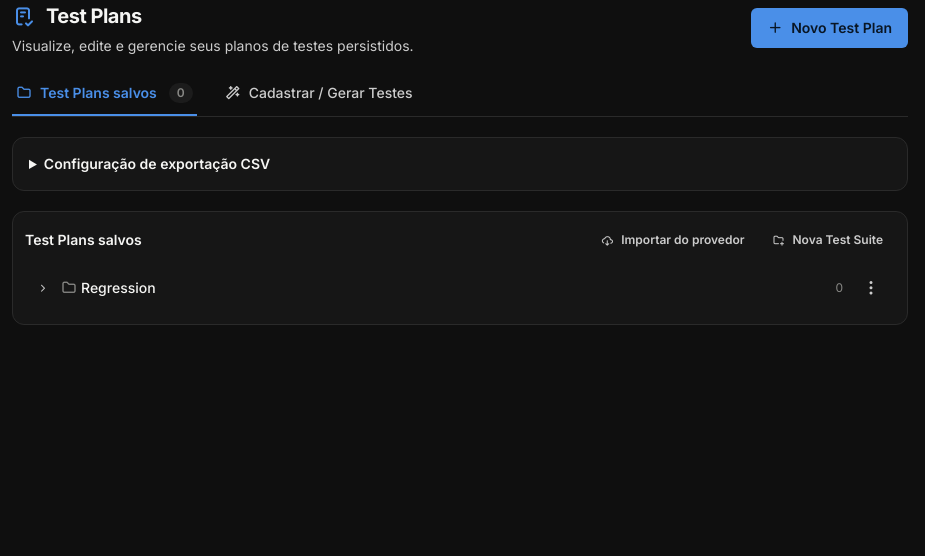
Test: TestPlansView suite management › reports a failure to create a suite
Expected: the element with test id "test-suite-tree" is shown, [12,211,908,325]
Click the button "Nova Test Suite" at (828, 240), box [760,224,895,256]
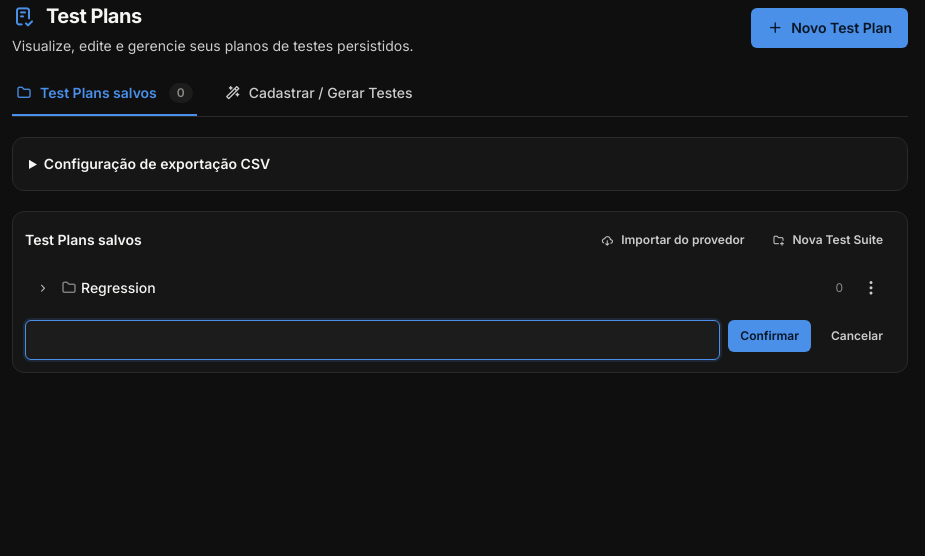
Type "Smoke" into the field at (373, 340), box [25,320,720,360]
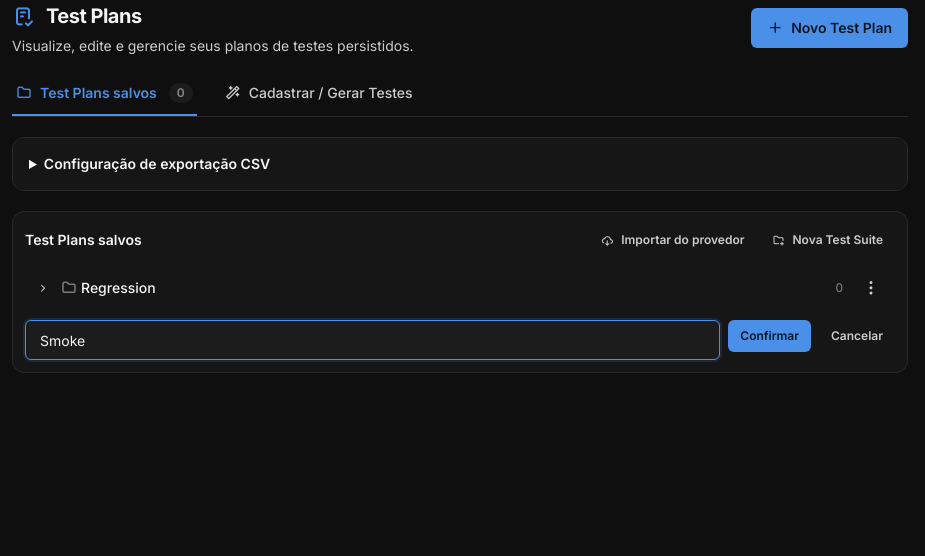
Click the button "Confirmar" at (770, 336), box [728,320,811,352]
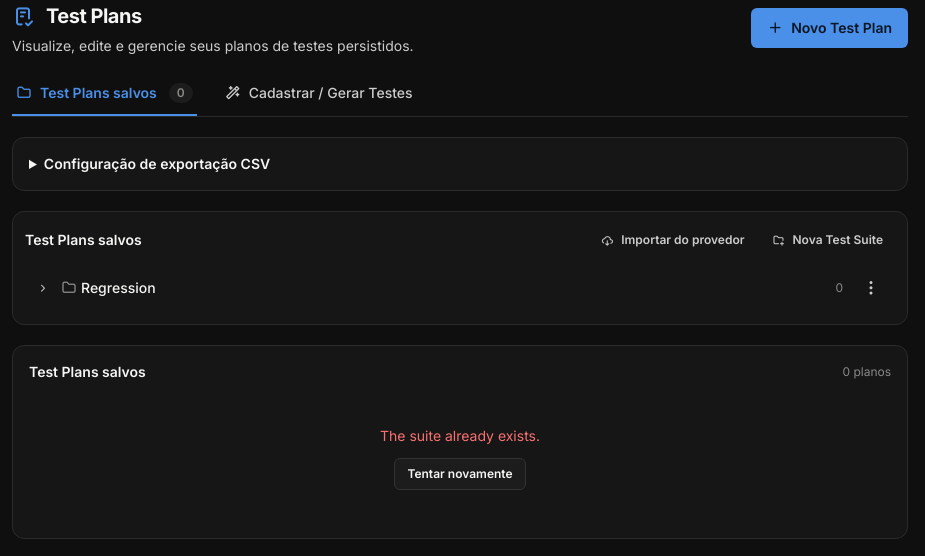
Now the text "The suite already exists." is shown, box [380,427,540,444]
